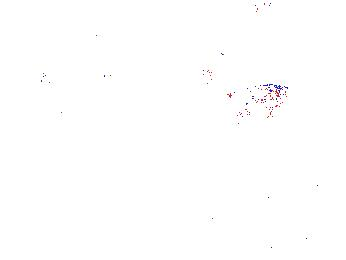X-ray fish: (232, 82, 289, 124)
red belly glassfish: (248, 1, 274, 15)
redtail glassfish: (29, 61, 124, 92), (198, 47, 225, 85)
